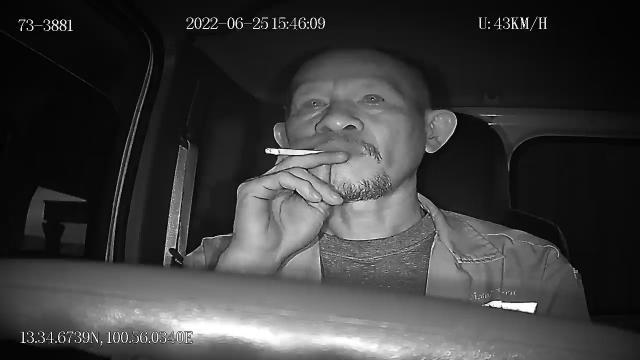SafeDriving: (294, 88, 333, 120), (356, 86, 390, 110)
Smoking: (263, 146, 329, 156)
